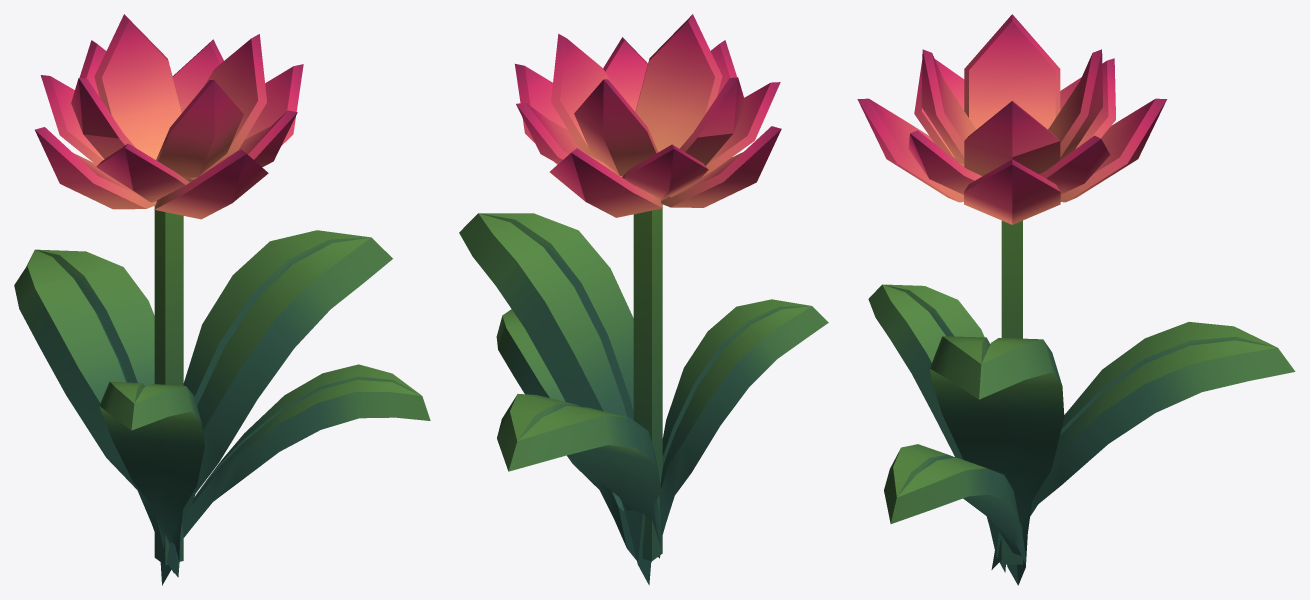
The model's file is Flower-2-2.fbx.
3 renders of one model, left to right at view 1: azimuth 30°, elevation 25°; view 2: azimuth 150°, elevation 25°; view 3: azimuth 270°, elevation 25°, orthographic.
Visible parts, largest first — view 1: Flower-2-2; view 2: Flower-2-2; view 3: Flower-2-2.
Boxes of the visible parts, x1,y1,x2,y2 form: Flower-2-2: (14,14,430,585); Flower-2-2: (459,14,828,585); Flower-2-2: (857,14,1295,585).
Bounding box in the file's own units: 89.57 × 135 × 99.69.
